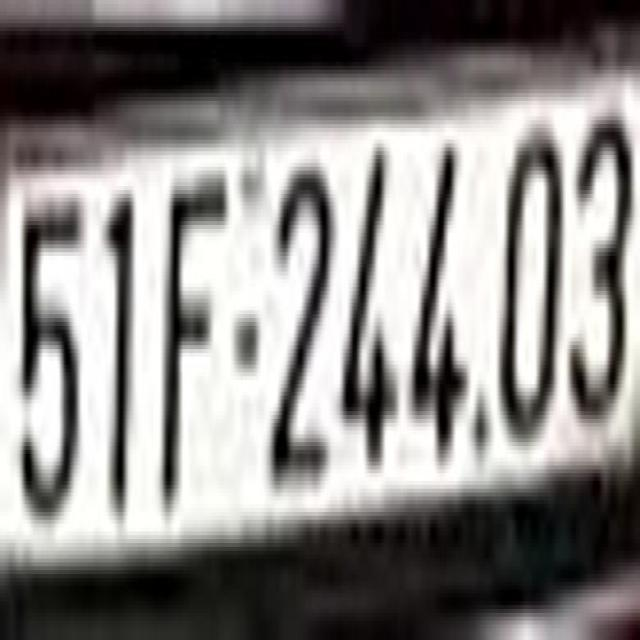0: (494, 105, 564, 454)
1: (97, 170, 141, 528)
2: (272, 152, 332, 496)
3: (566, 116, 631, 442)
4: (406, 124, 468, 473), (336, 136, 399, 477)
5: (17, 182, 80, 520)
F: (157, 163, 230, 496)
